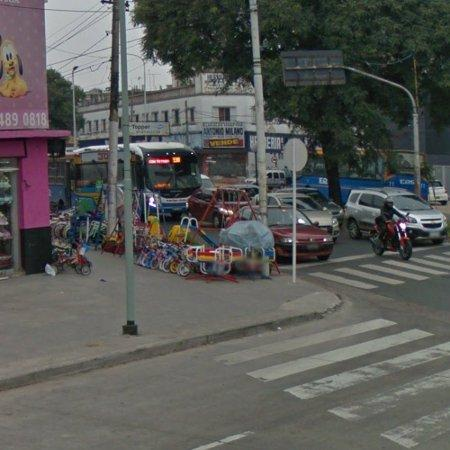crosswalks: (214, 315, 450, 450), (308, 250, 450, 290)
